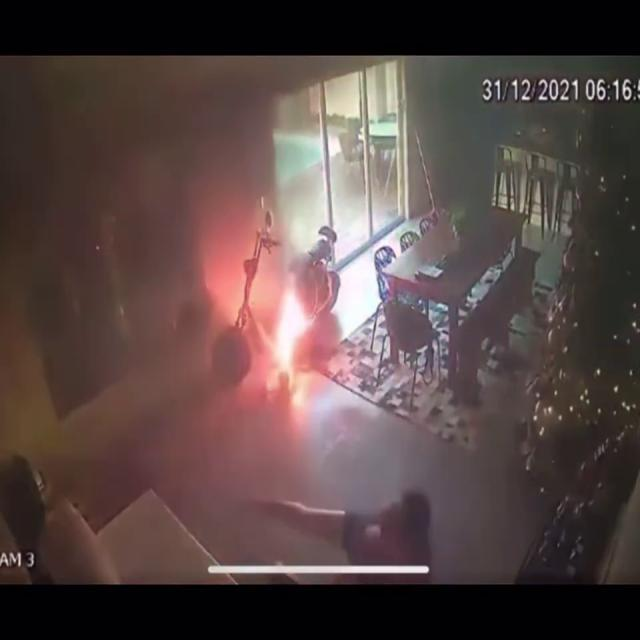Fire: (244, 258, 316, 396)
Smoke: (0, 59, 268, 545)
